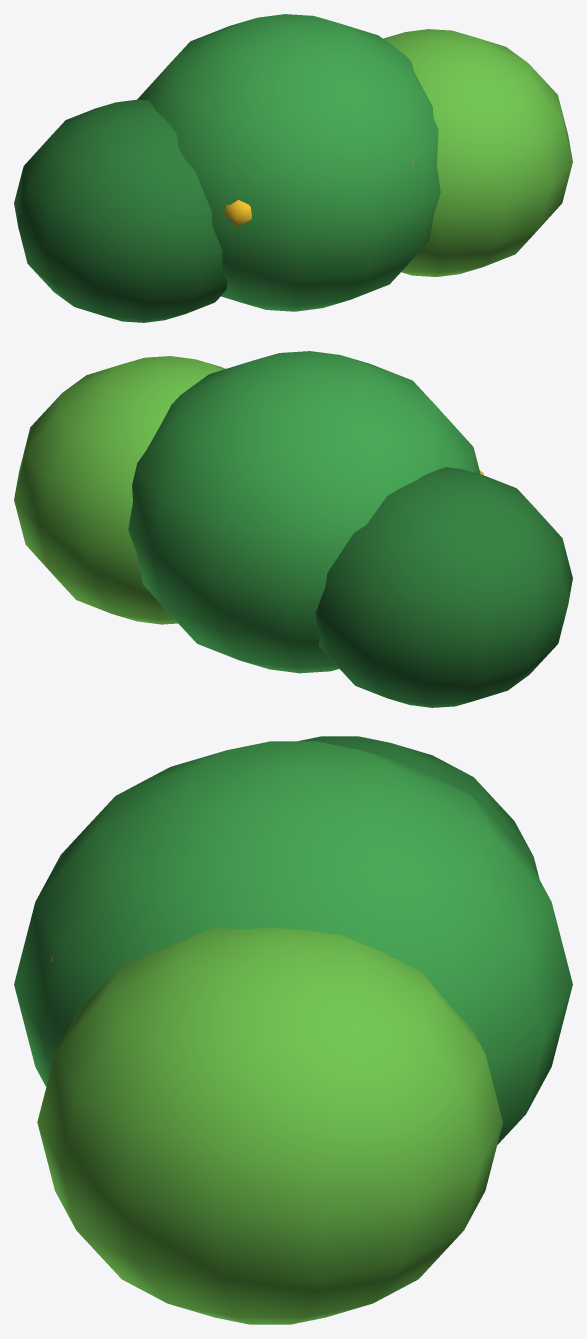
Rendered from bush.glb.
3 views of the same model, one above another, from view 1: azimuth 30°, elevation 25°; view 2: azimuth 150°, elevation 25°; view 3: azimuth 270°, elevation 25° (orthographic). The views are drawn at different scales.
Visible parts, largest first — view 1: Body; view 2: Body; view 3: Body.
Boxes of the visible parts, x1,y1,x2,y2 form: Body: (14, 14, 572, 322); Body: (14, 351, 572, 707); Body: (14, 736, 572, 1324).
Bounding box in the file's own units: 2.03 × 1.02 × 1.2.
